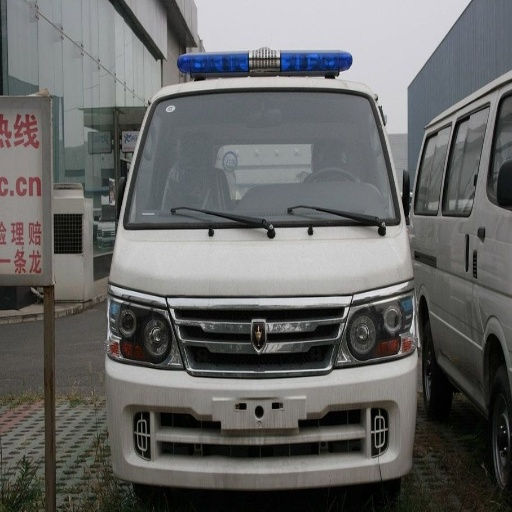front_bumper: (106, 295, 418, 490)
front_glass: (127, 90, 398, 229)
front_right_light: (111, 288, 177, 368)
